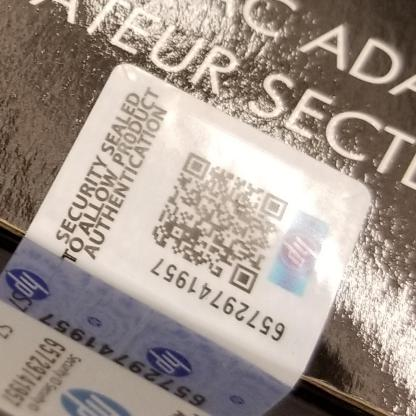qr: (148, 145, 295, 300)
